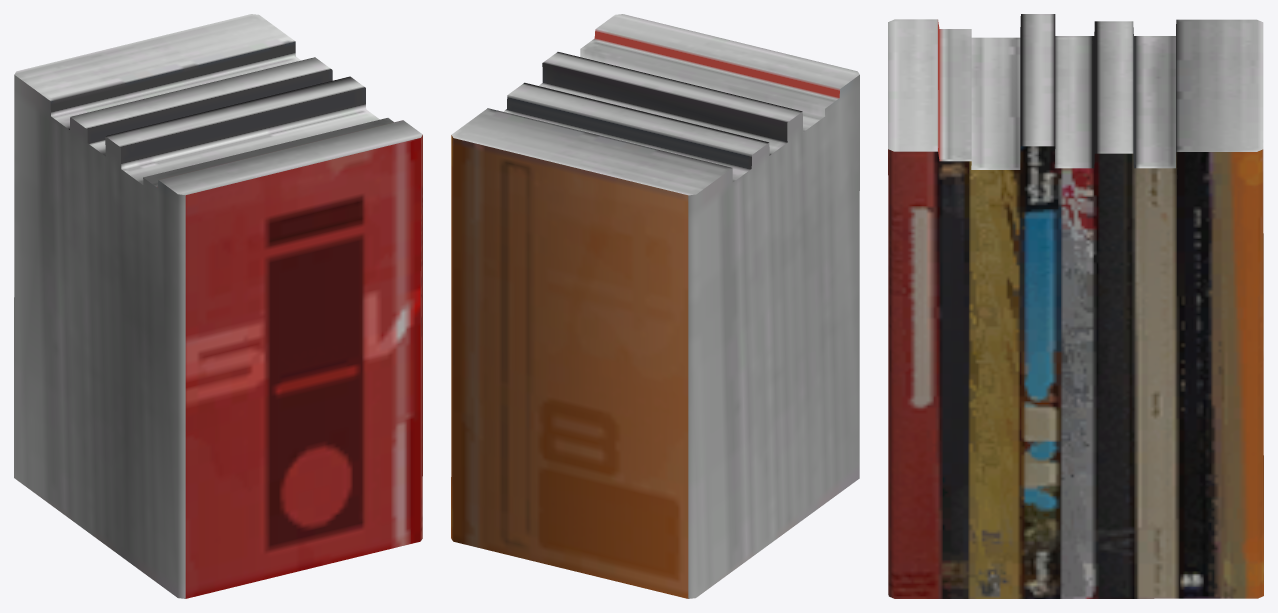
Rendered from Books04.FBX.
3 renders of one model, left to right at view 1: azimuth 30°, elevation 25°; view 2: azimuth 150°, elevation 25°; view 3: azimuth 270°, elevation 25°, orthographic. The views are drawn at different scales.
Visible parts, largest first — view 1: Books04; view 2: Books04; view 3: Books04.
Part boxes in pixels (box(x1,y1,x2,y2)): Books04: box(14, 14, 422, 598); Books04: box(451, 14, 859, 598); Books04: box(888, 14, 1263, 598).
Size of the model in its own units: 0.201 by 0.3206 by 0.2412.
